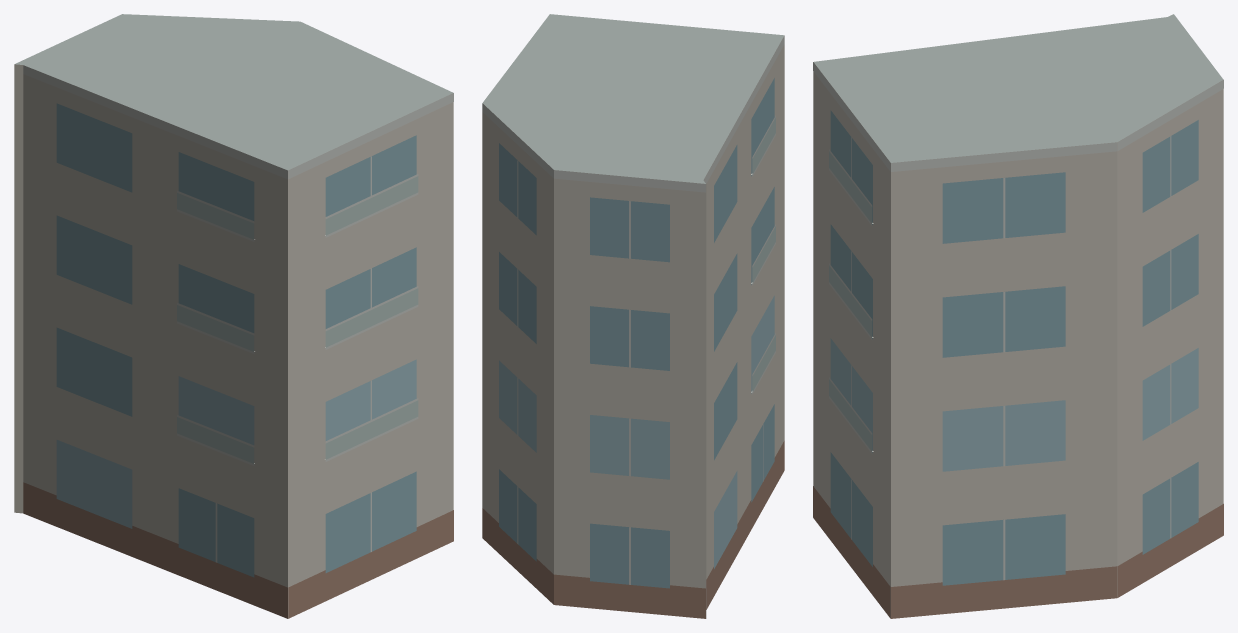
File: survey-upis-32506196.glb
3 renders of one model, left to right at view 1: azimuth 30°, elevation 25°; view 2: azimuth 150°, elevation 25°; view 3: azimuth 270°, elevation 25°, orthographic. The views are drawn at different scales.
Visible parts, largest first — view 1: survey-upis-32506196.tmp; view 2: survey-upis-32506196.tmp; view 3: survey-upis-32506196.tmp.
Boxes of the visible parts, left/top/right/bottom form: survey-upis-32506196.tmp: left=14, top=14, right=453, bottom=618; survey-upis-32506196.tmp: left=482, top=14, right=784, bottom=618; survey-upis-32506196.tmp: left=813, top=14, right=1223, bottom=618.
Size of the model in its own units: 8.56 by 12.2 by 9.96.
